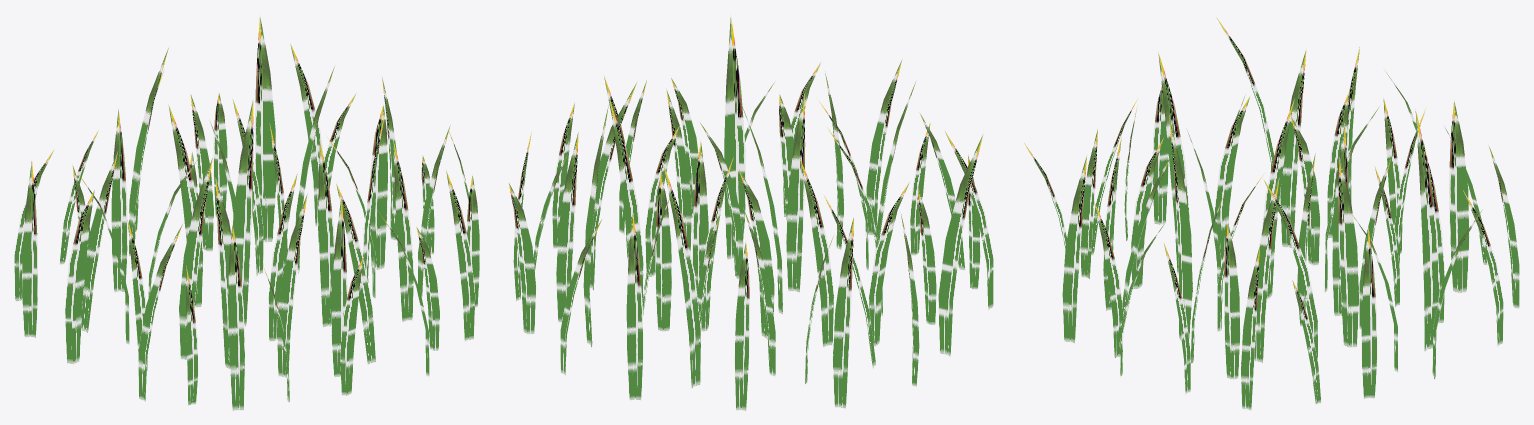
The model's file is Grass_01.glb.
3 views of the same model, side by side, from view 1: azimuth 30°, elevation 25°; view 2: azimuth 150°, elevation 25°; view 3: azimuth 270°, elevation 25° (orthographic). The views are drawn at different scales.
Visible parts, largest first — view 1: Grass_01_LOD0; view 2: Grass_01_LOD0; view 3: Grass_01_LOD0.
Boxes of the visible parts, <box> form: Grass_01_LOD0: <box>14,15,479,410</box>; Grass_01_LOD0: <box>508,14,993,410</box>; Grass_01_LOD0: <box>1023,16,1519,410</box>.
Size of what is drawn, in the model's own units: 0.7335 by 0.4074 by 0.7724.
1 material, 1 textured.
